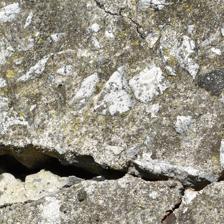Crack: (56, 42, 154, 153), (178, 19, 224, 53)
